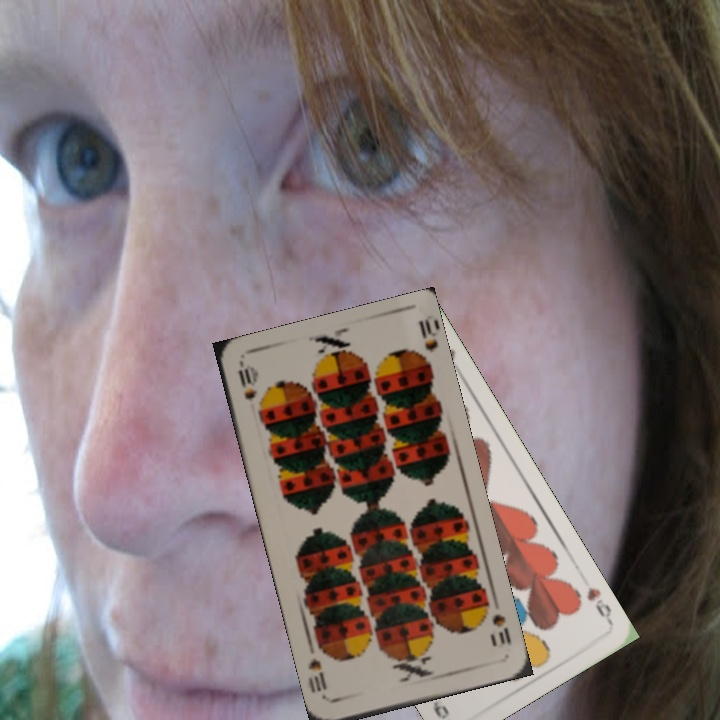H9: (582, 583, 615, 625)
S10: (479, 598, 514, 647), (234, 363, 259, 403)
